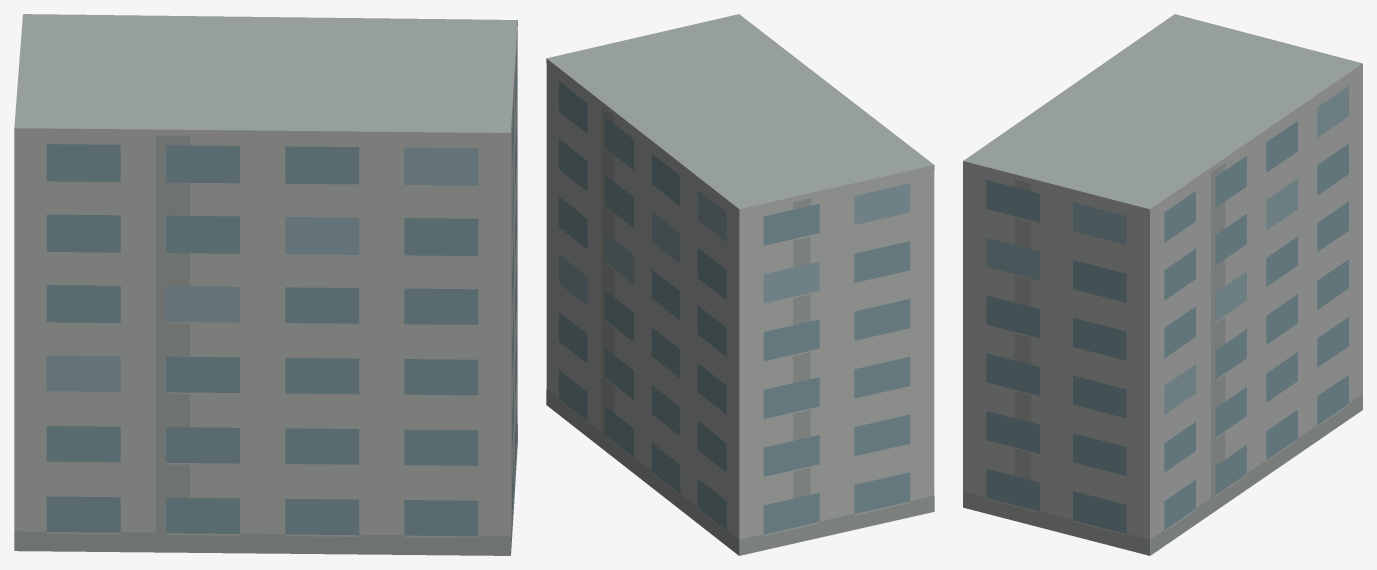
The model's file is survey-upis-32760477.glb.
The picture shows the model from 3 angles, left to right: view 1: azimuth 30°, elevation 25°; view 2: azimuth 150°, elevation 25°; view 3: azimuth 270°, elevation 25°; orthographic projection. The views are drawn at different scales.
Visible parts, largest first — view 1: survey-upis-32760477.tmp; view 2: survey-upis-32760477.tmp; view 3: survey-upis-32760477.tmp.
Boxes of the visible parts, x1,y1,x2,y2 form: survey-upis-32760477.tmp: (14,14,517,555); survey-upis-32760477.tmp: (546,14,934,555); survey-upis-32760477.tmp: (963,14,1362,555).
Size of the model in its own units: 20.19 by 16.7 by 17.46.
